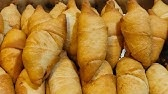pisang_molen: (21, 13, 67, 87), (73, 2, 107, 82), (119, 1, 154, 68)
